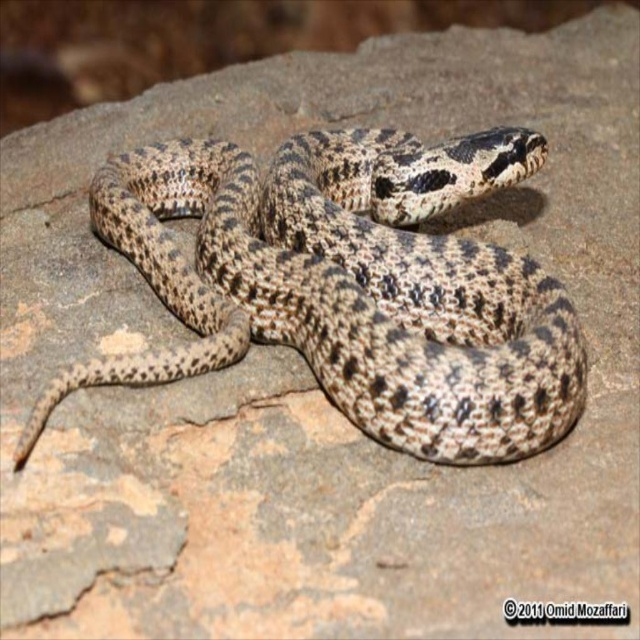Snake: (12, 124, 589, 467)
